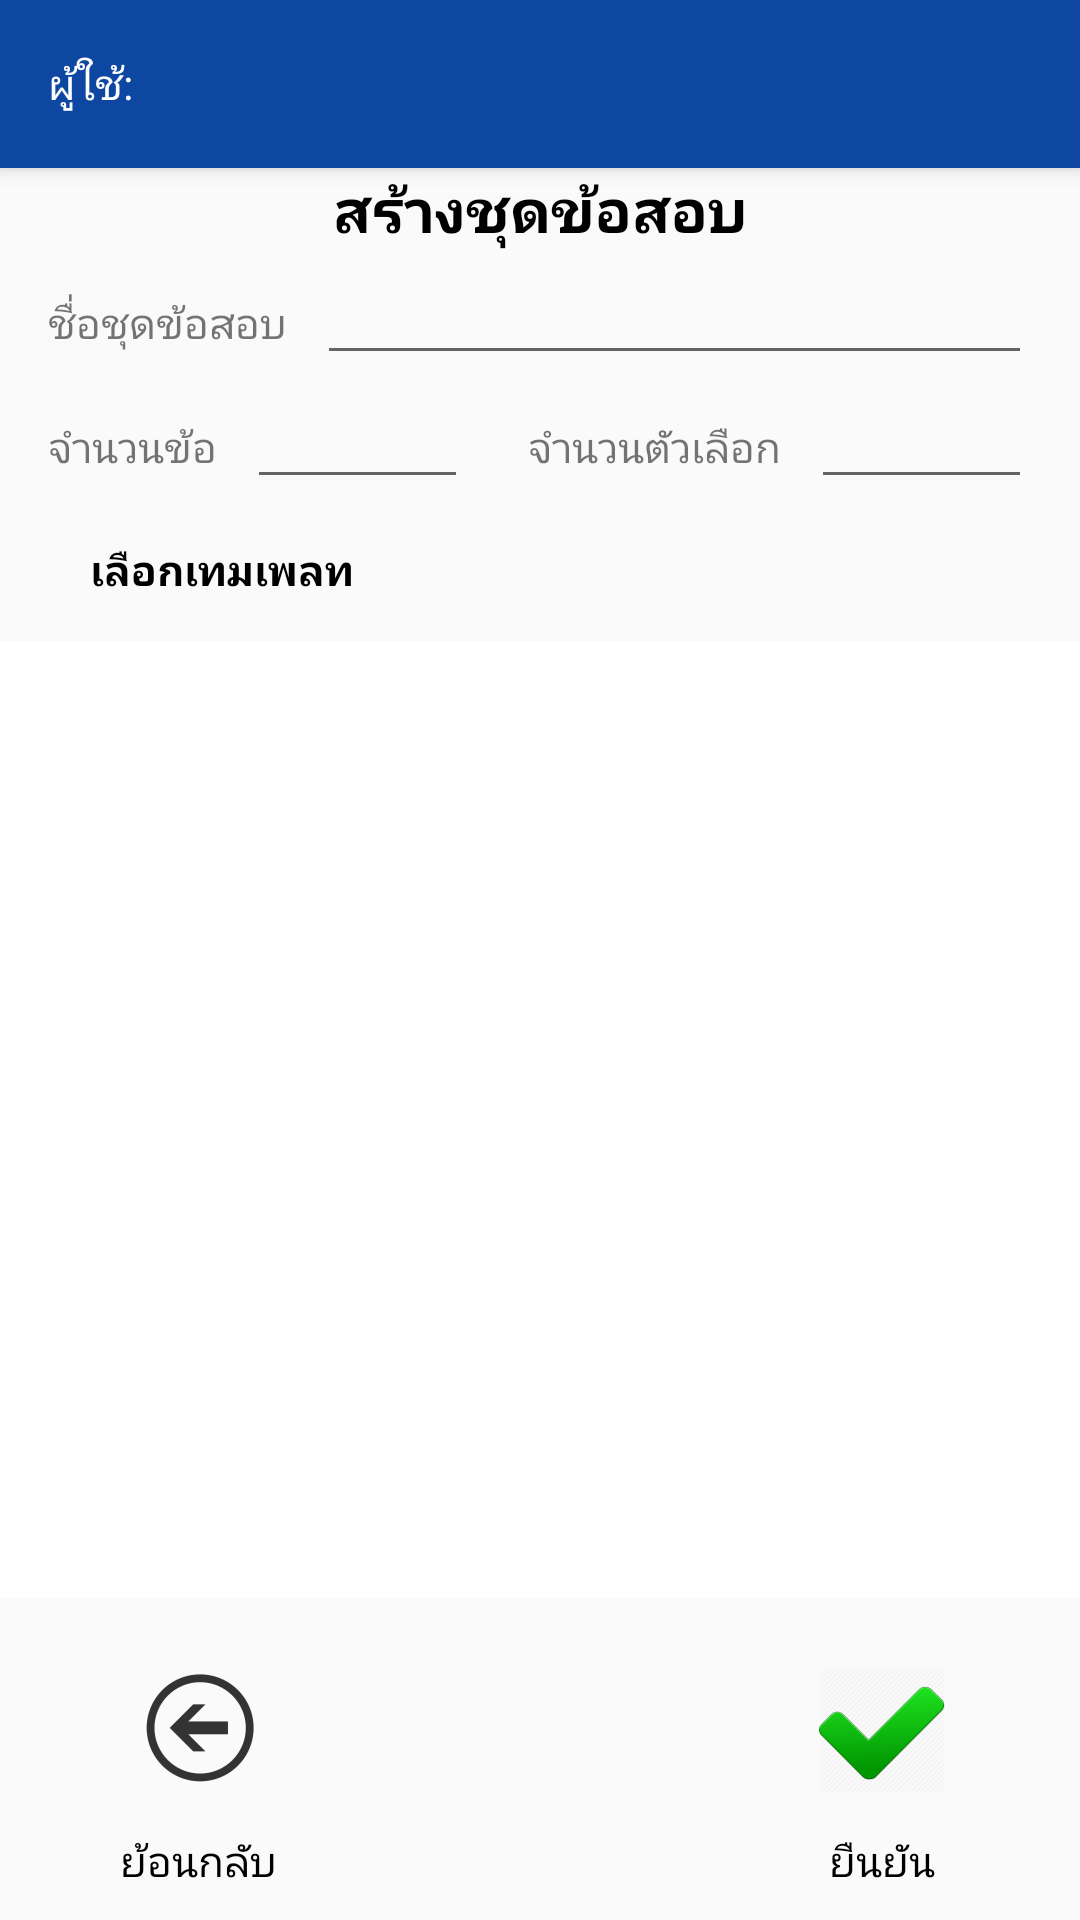

Where icons sit on this 1080 x 1920 app screen, as (x1, y1, x2, y2):
apply: (819, 1687, 945, 1780)
